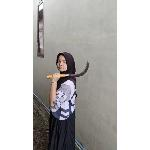Celurit: (45, 59, 91, 81)
